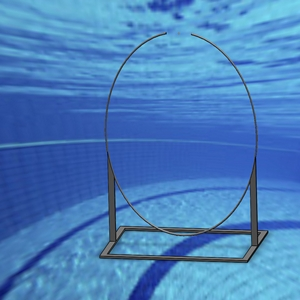circle: (102, 30, 268, 262)
